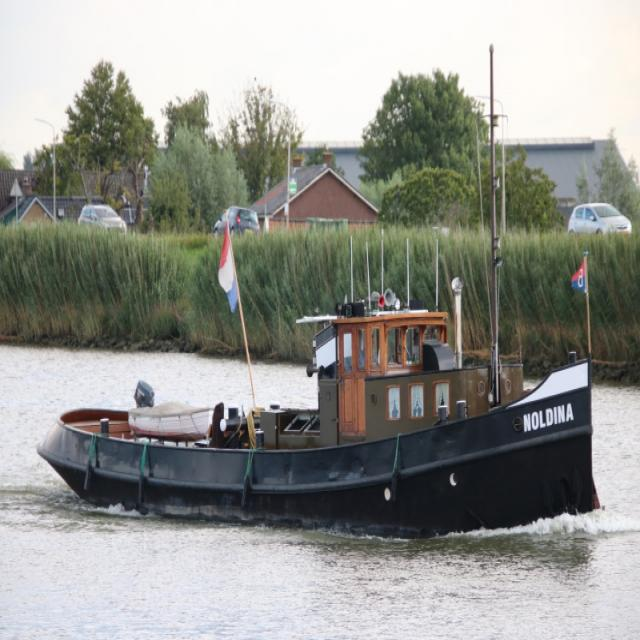tugboat: (34, 216, 607, 551)
